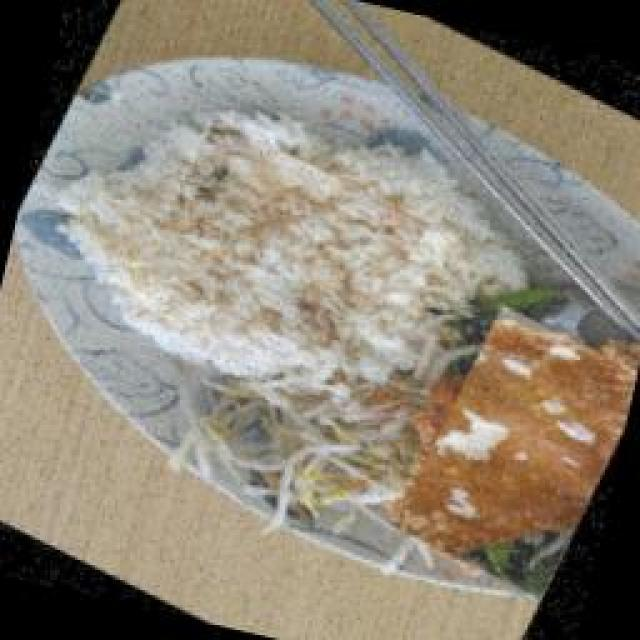fried_chicken: (382, 290, 640, 605)
mung_bean_sprouts: (210, 363, 423, 526)
rice: (125, 107, 470, 395)
